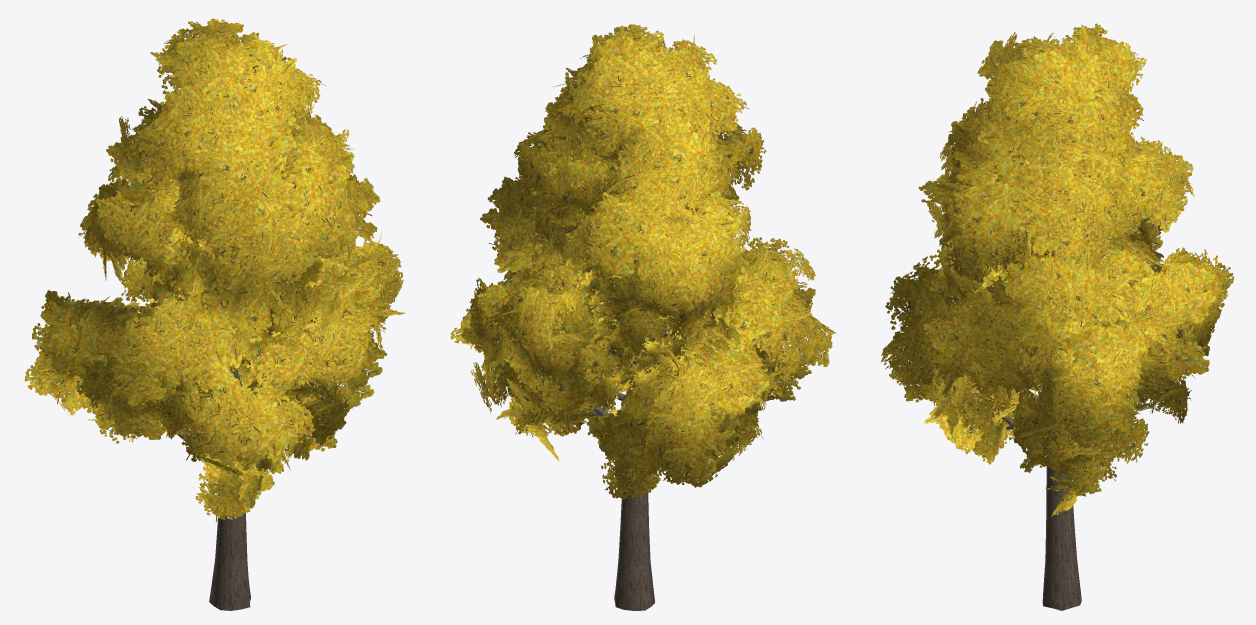
The model's file is Ginkgo_B.fbx.
The picture shows the model from 3 angles, left to right: view 1: azimuth 30°, elevation 25°; view 2: azimuth 150°, elevation 25°; view 3: azimuth 270°, elevation 25°; orthographic projection.
Visible parts, largest first — view 1: Ginkgo_B; view 2: Ginkgo_B; view 3: Ginkgo_B.
Part boxes in pixels (x1,y1,x2,y2): Ginkgo_B: (24,18,405,610); Ginkgo_B: (450,24,835,610); Ginkgo_B: (881,23,1234,610).
Bounding box in the file's own units: 5.9 × 9.82 × 5.67.
Materials: 2 (2 with a texture image).
